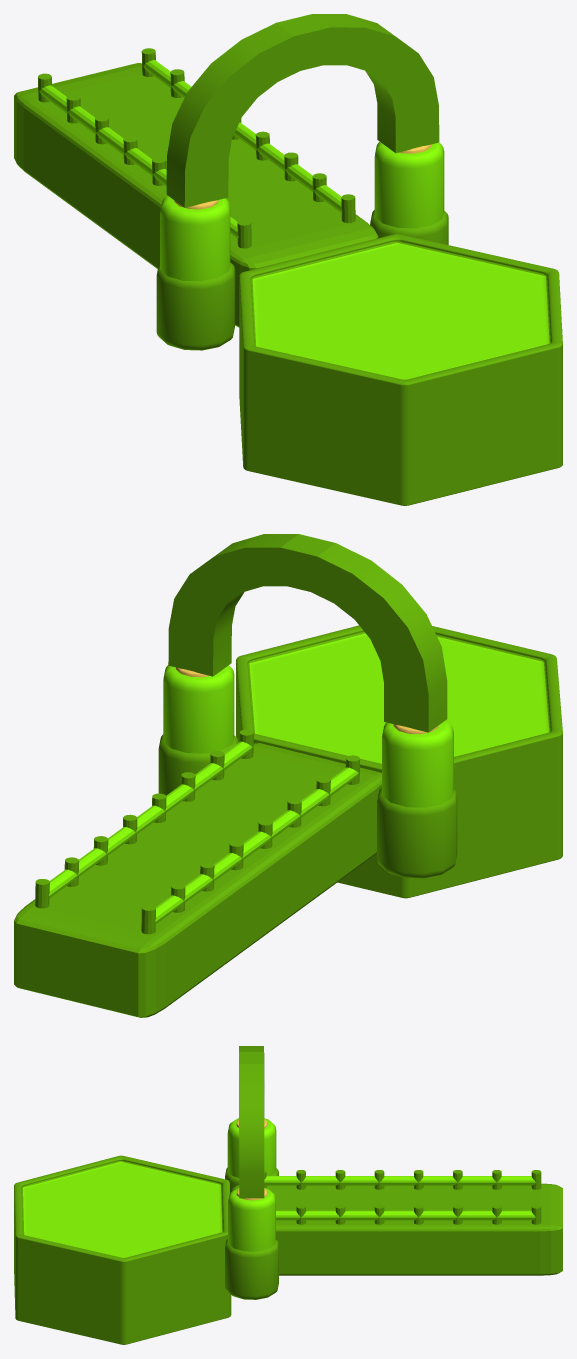
Rendered from Finish Gate (1).fbx.
3 views of the same model, one above another, from view 1: azimuth 30°, elevation 25°; view 2: azimuth 150°, elevation 25°; view 3: azimuth 270°, elevation 25° (orthographic). The views are drawn at different scales.
Parts seen in each view (by area): view 1: Cylinder, Cube.013, Cube.012, Cylinder.002, Cylinder.003, Cylinder.005, Cylinder.019, Cylinder.009, Cylinder.001; view 2: Cube.013, Cylinder, Cube.012, Cylinder.002, Cylinder.003, Cylinder.005, Cylinder.009, Cylinder.019, Cylinder.001; view 3: Cylinder, Cube.013, Cube.012, Cylinder.019, Cylinder.009, Cylinder.001, Cylinder.003, Cylinder.005.
Boxes of the visible parts, bbox=[...] form: Cylinder: bbox=[239, 234, 562, 505]; Cube.013: bbox=[14, 63, 378, 327]; Cube.012: bbox=[166, 14, 439, 207]; Cylinder.002: bbox=[156, 262, 235, 350]; Cylinder.003: bbox=[374, 142, 444, 228]; Cylinder.005: bbox=[160, 196, 230, 281]; Cylinder.019: bbox=[141, 48, 355, 223]; Cylinder.009: bbox=[38, 73, 251, 248]; Cylinder.001: bbox=[370, 210, 448, 244]; Cube.013: bbox=[14, 743, 381, 1017]; Cylinder: bbox=[236, 625, 562, 898]; Cube.012: bbox=[168, 534, 447, 732]; Cylinder.002: bbox=[377, 787, 457, 878]; Cylinder.003: bbox=[163, 665, 234, 753]; Cylinder.005: bbox=[382, 720, 453, 807]; Cylinder.009: bbox=[141, 755, 360, 934]; Cylinder.019: bbox=[35, 729, 253, 908]; Cylinder.001: bbox=[158, 734, 238, 795]; Cylinder: bbox=[14, 1155, 231, 1344]; Cube.013: bbox=[232, 1183, 562, 1275]; Cube.012: bbox=[239, 1046, 264, 1198]; Cylinder.019: bbox=[276, 1204, 541, 1224]; Cylinder.009: bbox=[264, 1170, 541, 1189]; Cylinder.001: bbox=[225, 1239, 278, 1299]; Cylinder.003: bbox=[228, 1187, 275, 1251]; Cylinder.005: bbox=[227, 1118, 276, 1177].
Size of the model in its own units: 1821 by 1872 by 3989.
